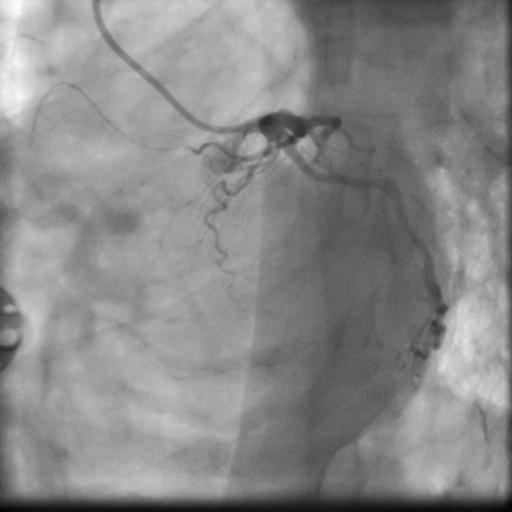Stenosis: (392, 210, 426, 245)
